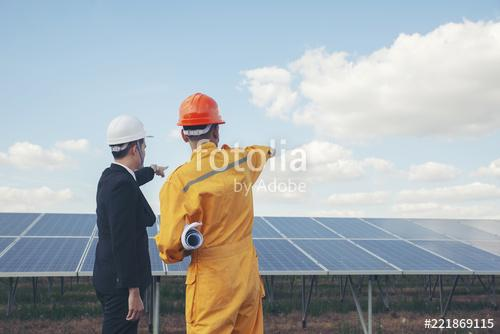helmet: (179, 93, 228, 126), (107, 115, 152, 146)
